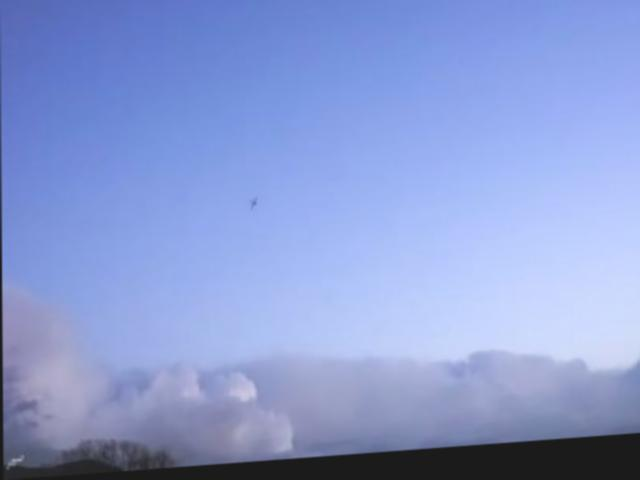uav: (245, 199, 261, 216)
